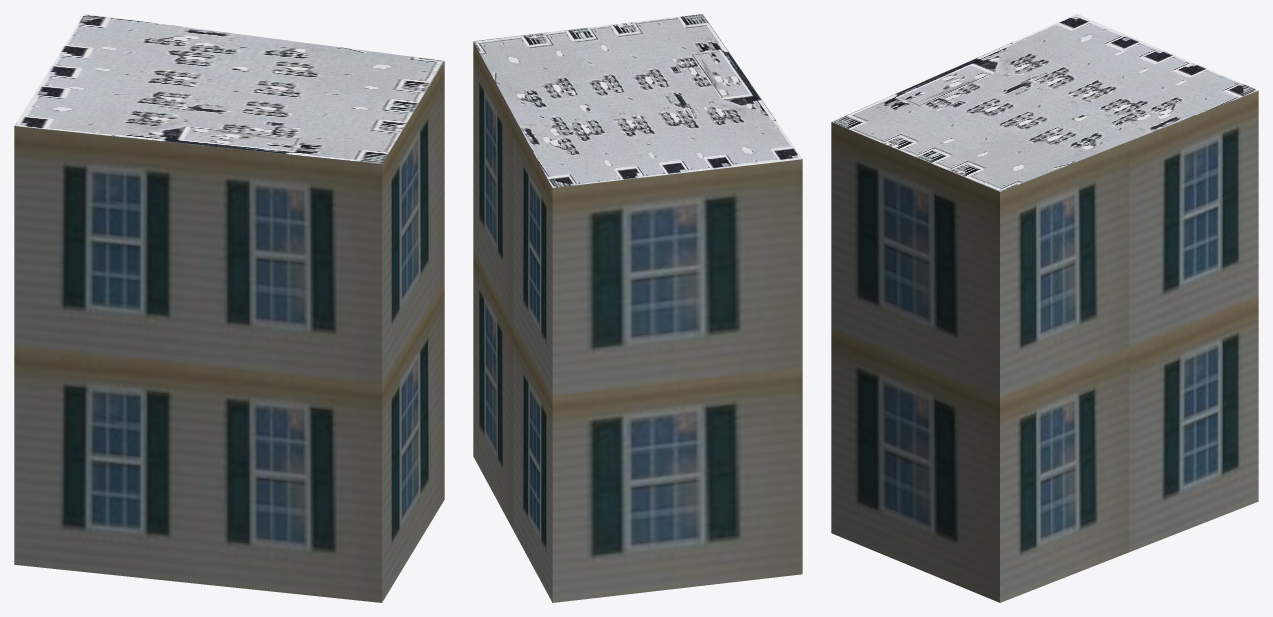
File: ResTex__1413.fbx
The picture shows the model from 3 angles, left to right: view 1: azimuth 30°, elevation 25°; view 2: azimuth 150°, elevation 25°; view 3: azimuth 270°, elevation 25°; orthographic projection. The views are drawn at different scales.
Parts seen in each view (by area): view 1: CityEngineMaterial_7_m, CityEngineMaterial_4_m; view 2: CityEngineMaterial_7_m, CityEngineMaterial_4_m; view 3: CityEngineMaterial_7_m, CityEngineMaterial_4_m.
Boxes of the visible parts, x1,y1,x2,y2 form: CityEngineMaterial_7_m: (14,61,444,602); CityEngineMaterial_4_m: (14,14,444,163); CityEngineMaterial_7_m: (473,42,802,602); CityEngineMaterial_4_m: (473,14,802,187); CityEngineMaterial_7_m: (831,90,1258,602); CityEngineMaterial_4_m: (831,14,1258,191).
Bounding box in the file's own units: 5.57 × 6 × 5.66.
Materials: 2 (2 with a texture image).
